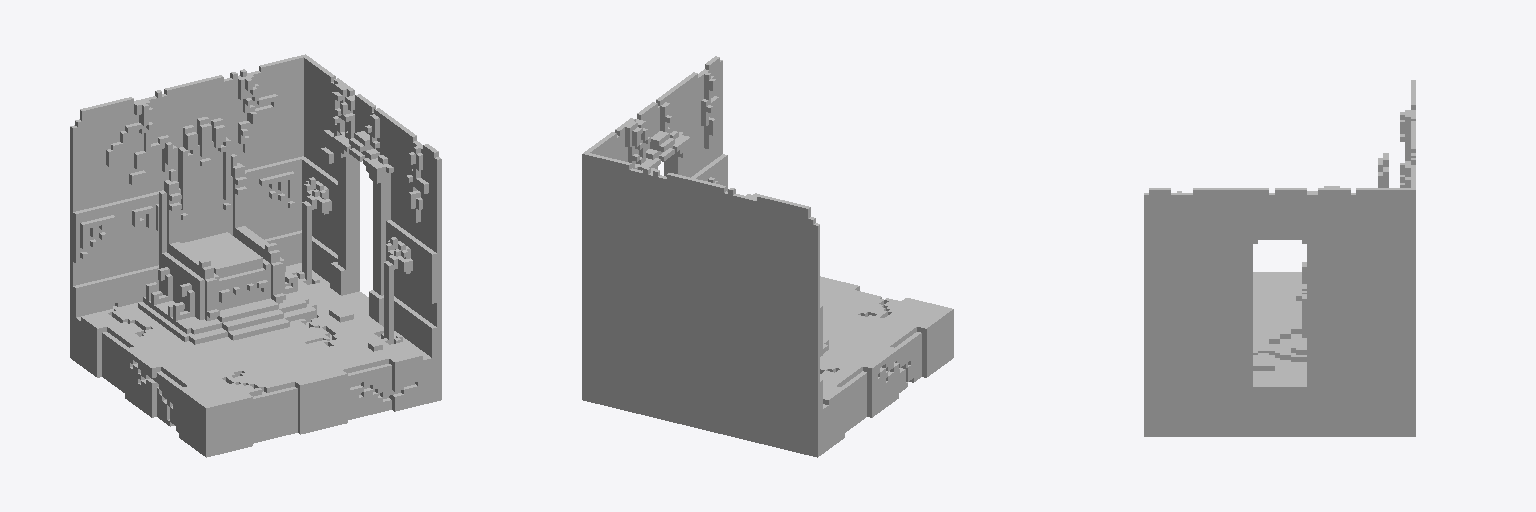
Rendered from Kings Throne.obj.
The picture shows the model from 3 angles: view 1: azimuth 30°, elevation 25°; view 2: azimuth 150°, elevation 25°; view 3: azimuth 270°, elevation 25°; orthographic projection.
Visible parts, largest first — view 1: KingsThrone; view 2: KingsThrone; view 3: KingsThrone.
Boxes of the visible parts, x1=… form: KingsThrone: x1=70, y1=54, x2=441, y2=457; KingsThrone: x1=582, y1=56, x2=953, y2=457; KingsThrone: x1=1144, y1=80, x2=1415, y2=436.
Bounding box in the file's own units: 5 × 5 × 5.